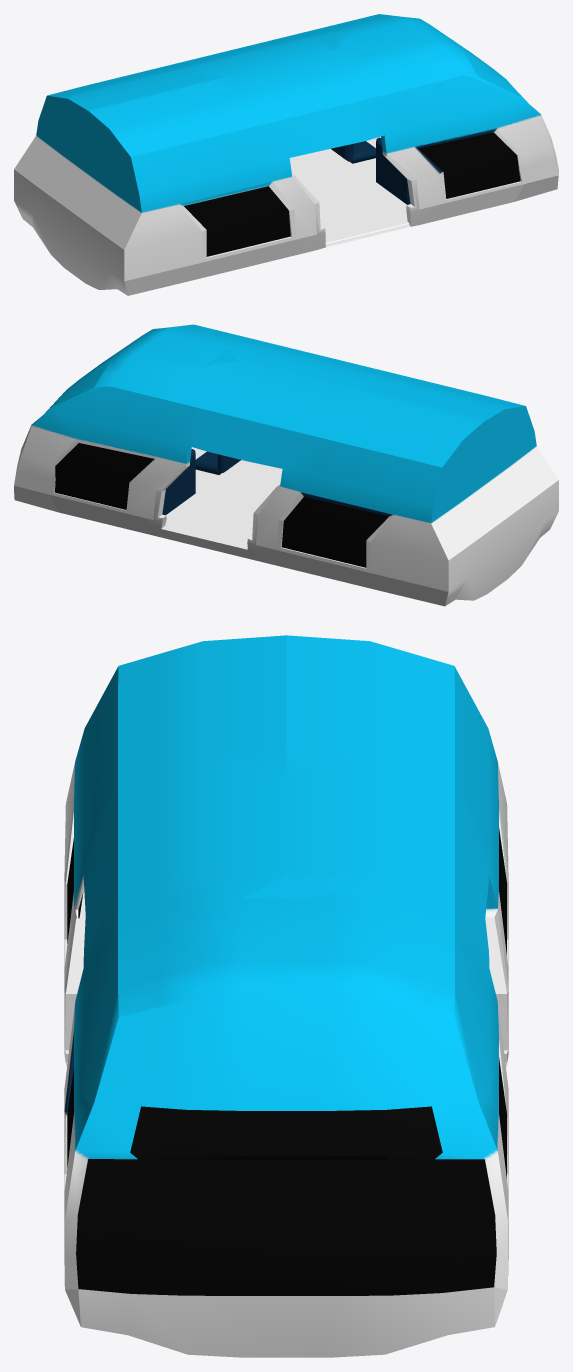
Rendered from train.fbx.
3 renders of one model, top to bottom at view 1: azimuth 30°, elevation 25°; view 2: azimuth 150°, elevation 25°; view 3: azimuth 270°, elevation 25°, orthographic. The views are drawn at different scales.
Parts seen in each view (by area): view 1: city__FNL_V1001_1:pasted__scifi_bus_pPlane5; view 2: city__FNL_V1001_1:pasted__scifi_bus_pPlane5; view 3: city__FNL_V1001_1:pasted__scifi_bus_pPlane5.
Boxes of the visible parts, x1,y1,x2,y2 form: city__FNL_V1001_1:pasted__scifi_bus_pPlane5: [14, 14, 558, 295]; city__FNL_V1001_1:pasted__scifi_bus_pPlane5: [14, 324, 558, 606]; city__FNL_V1001_1:pasted__scifi_bus_pPlane5: [64, 635, 508, 1357].
Size of the model in its own units: 1416 by 497 by 616.
2 materials, 1 textured.
